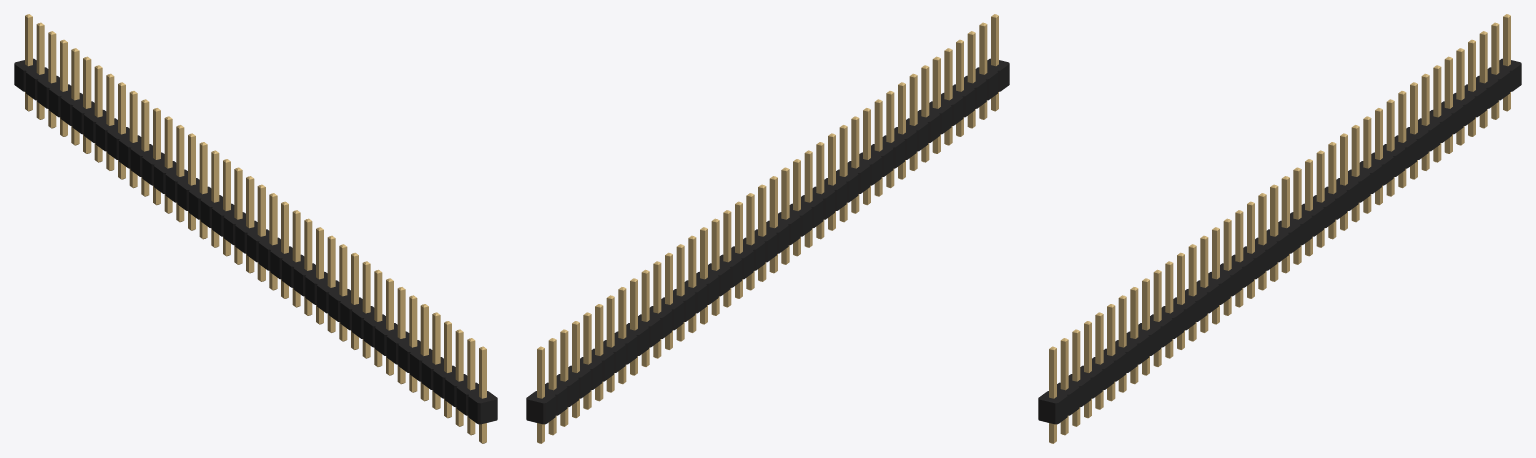
File: kc-pinheader_1x40_p2.54mm_vertical.glb
3 views of the same model, side by side, from view 1: azimuth 30°, elevation 25°; view 2: azimuth 150°, elevation 25°; view 3: azimuth 330°, elevation 25° (orthographic).
Visible parts, largest first — view 1: 0.75_0.5_0.25_0.9, 0_0_0_0; view 2: 0.75_0.5_0.25_0.9, 0_0_0_0; view 3: 0.75_0.5_0.25_0.9, 0_0_0_0.
Part boxes in pixels (x1,y1,x2,y2): 0.75_0.5_0.25_0.9: (25,14,486,443); 0_0_0_0: (14,58,497,424); 0.75_0.5_0.25_0.9: (537,14,998,443); 0_0_0_0: (526,58,1009,424); 0.75_0.5_0.25_0.9: (1049,14,1510,443); 0_0_0_0: (1038,58,1521,424).
Size of the model in its own units: 0.2543 by 1.15 by 10.16.
